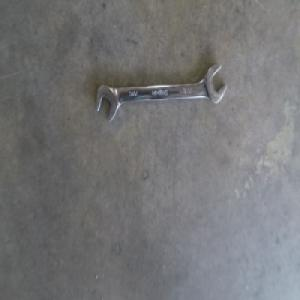Wrench: (93, 65, 228, 126)
